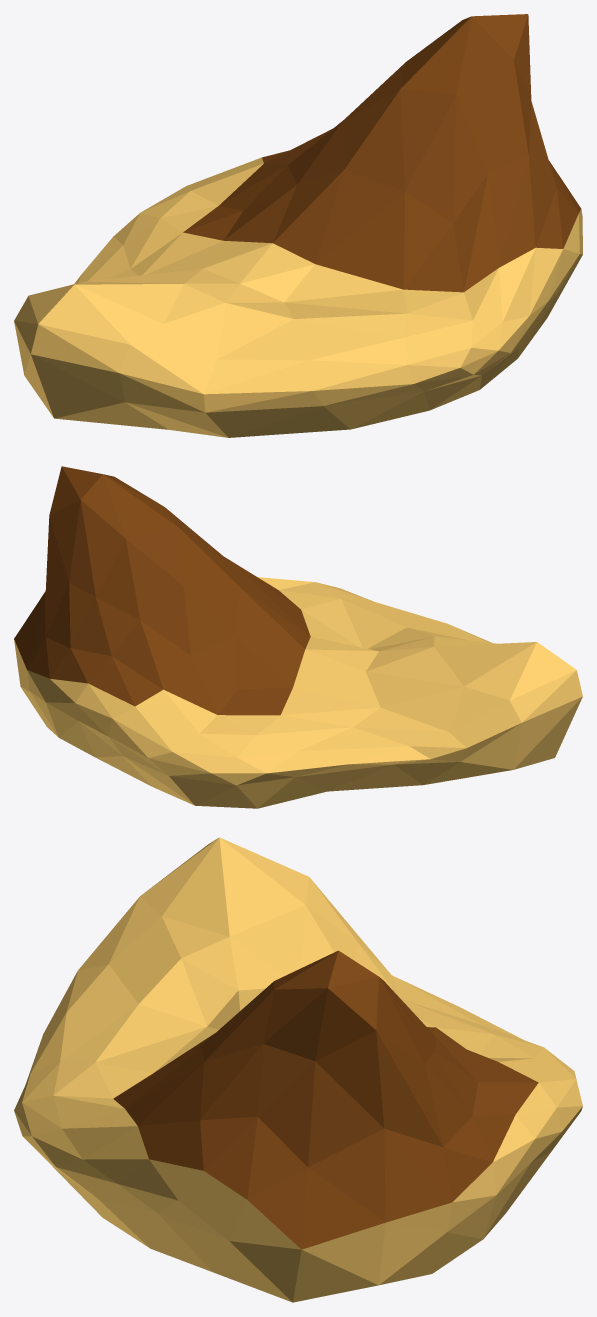
Rendered from Island_E01_Small03_Model.fbx.
3 renders of one model, top to bottom at view 1: azimuth 30°, elevation 25°; view 2: azimuth 150°, elevation 25°; view 3: azimuth 270°, elevation 25°, orthographic. The views are drawn at different scales.
Visible parts, largest first — view 1: Island_E_Small03; view 2: Island_E_Small03; view 3: Island_E_Small03.
Boxes of the visible parts, left/top/right/bottom form: Island_E_Small03: left=14, top=14, right=582, bottom=437; Island_E_Small03: left=14, top=466, right=582, bottom=808; Island_E_Small03: left=14, top=837, right=582, bottom=1302.
Size of the model in its own units: 58.54 by 26.11 by 42.06.
